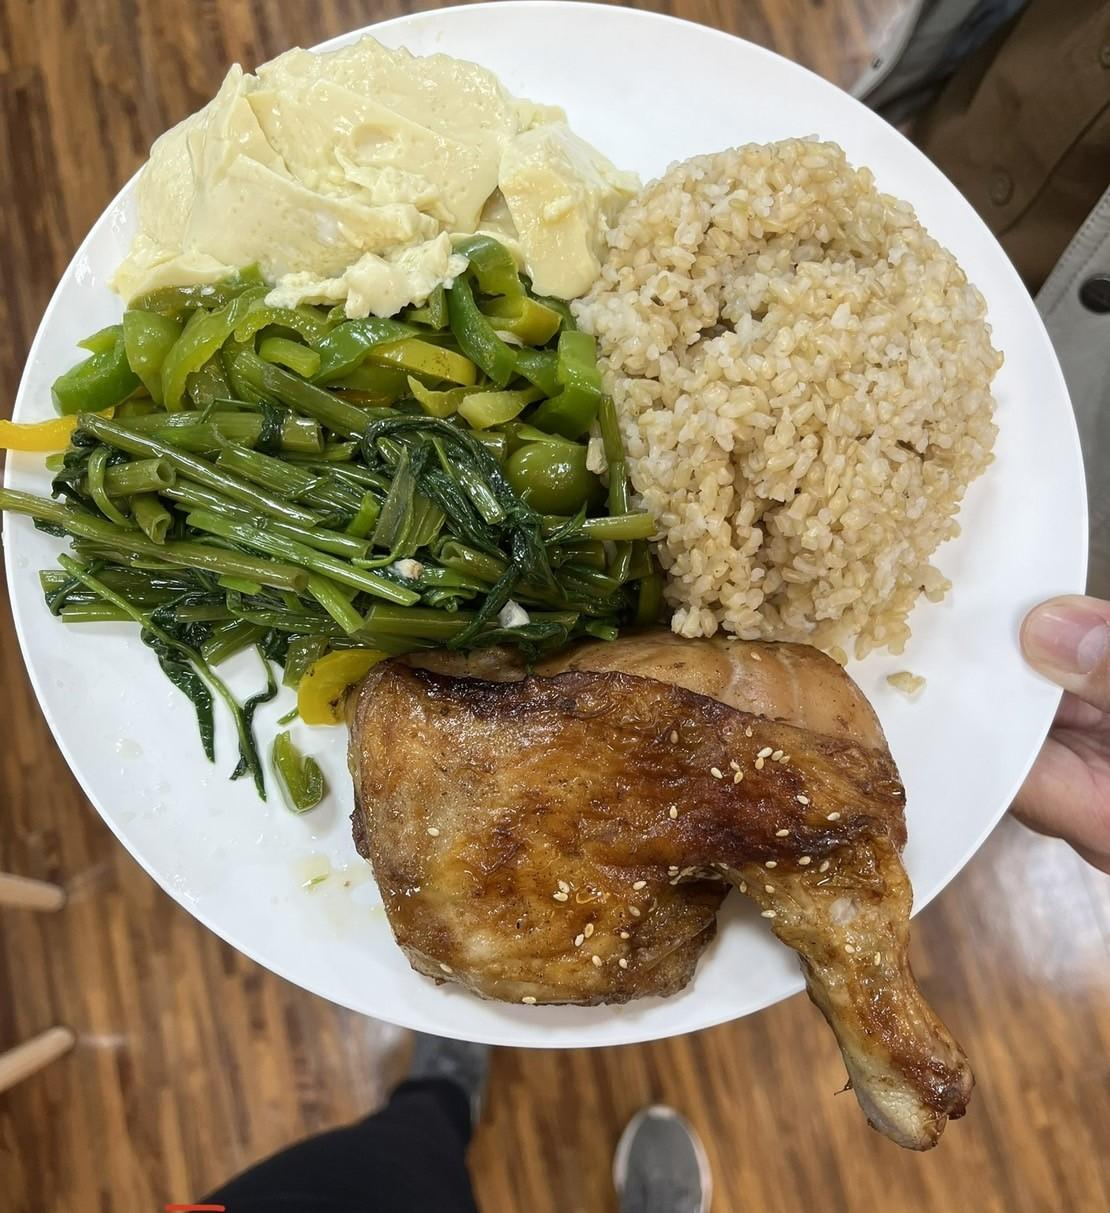big fried chicken leg: (0, 5, 1110, 1051)
box: (601, 141, 1000, 646)
braised fish fillet: (37, 425, 631, 656), (118, 40, 628, 309), (64, 250, 616, 444)
brown rice: (338, 631, 976, 1145)
